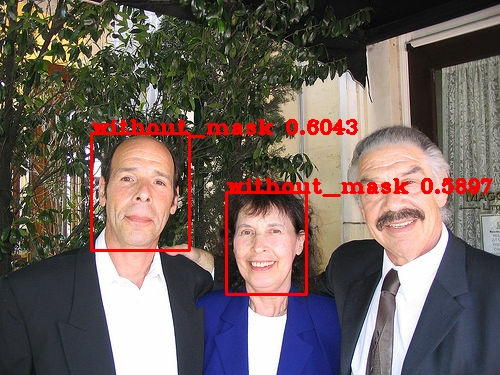without_mask: (340, 134, 455, 249), (94, 137, 184, 247), (219, 194, 315, 297)
